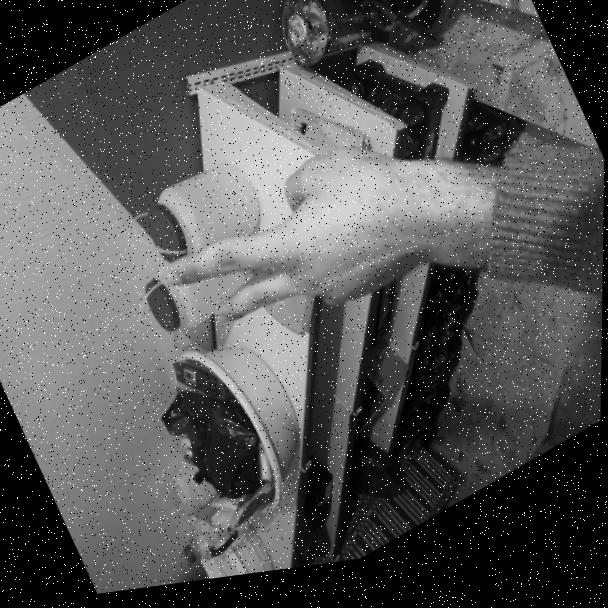two: (149, 118, 455, 396)
